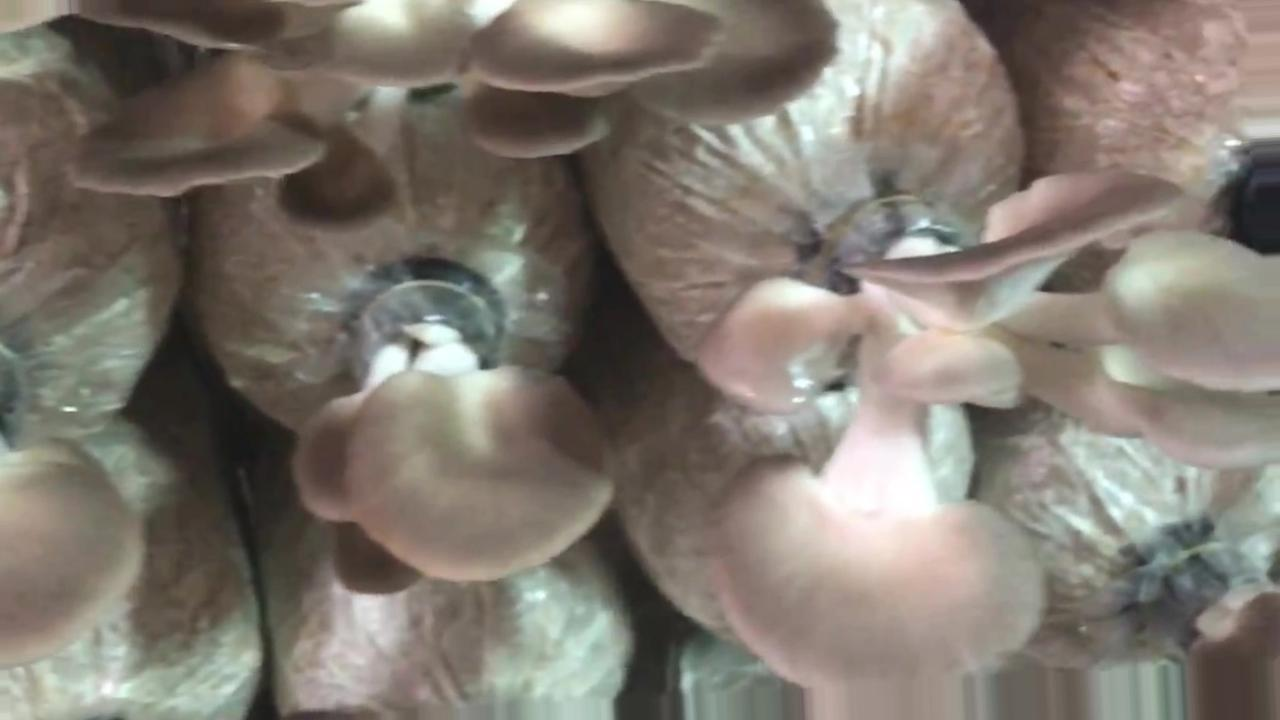nam: (692, 164, 1280, 695), (58, 1, 841, 237), (1, 443, 146, 666)
